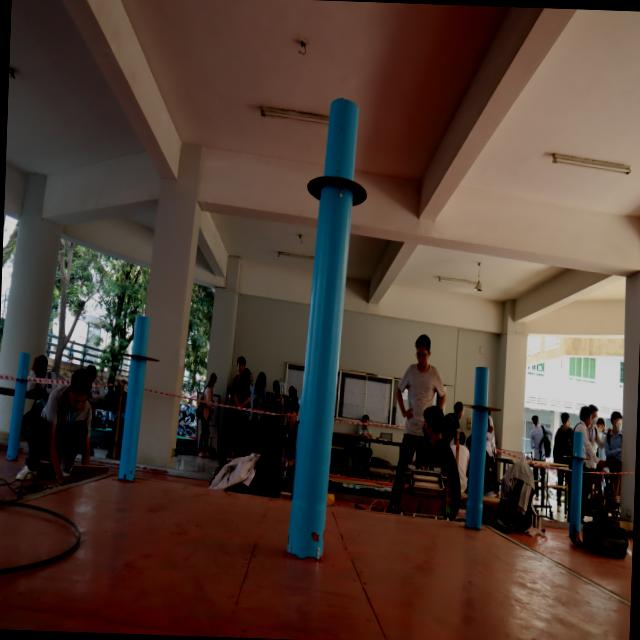pole: (298, 90, 379, 253), (458, 358, 504, 452), (122, 306, 161, 402), (8, 348, 36, 400), (564, 428, 592, 478)
